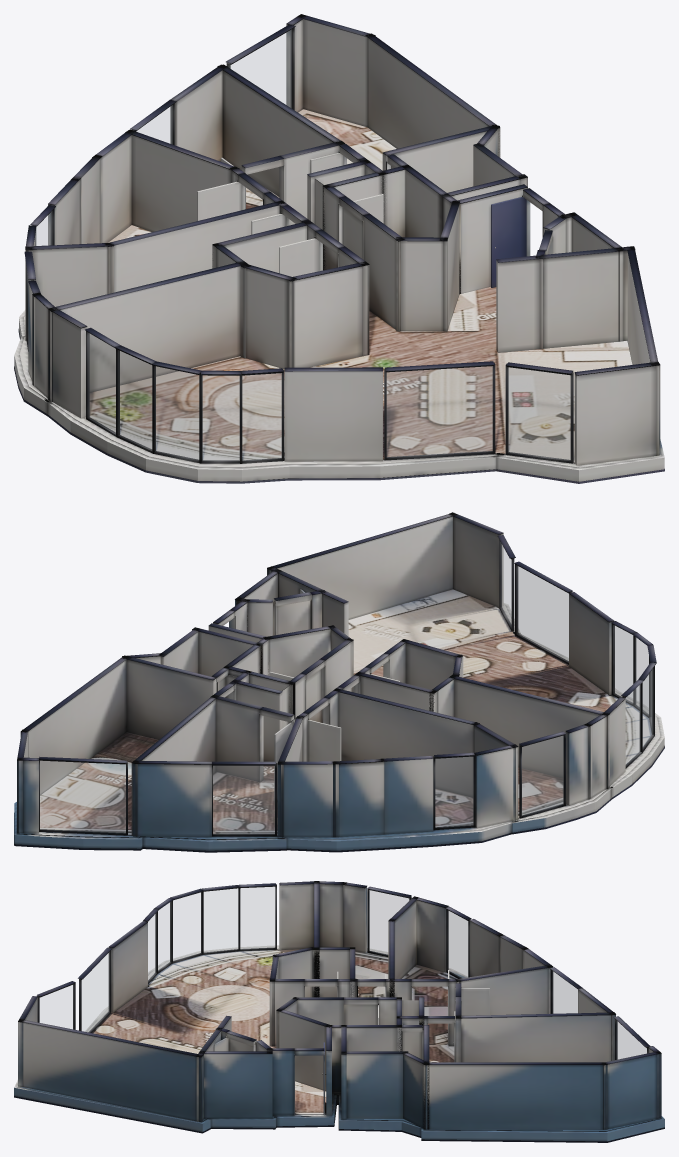
3 renders of one model, top to bottom at view 1: azimuth 30°, elevation 25°; view 2: azimuth 150°, elevation 25°; view 3: azimuth 270°, elevation 25°, orthographic. The views are drawn at different scales.
Parts seen in each view (by area): view 1: plan, glass9_m, glass10_m, glass6_m, glass8_m, glass7_m, glass5_m, glass1_m, glass4_m, glass0_m; view 2: plan, glass1_m, glass0_m, glass9_m, glass3_m, glass2_m, glass8_m, glass4_m, glass7_m, glass10_m, glass5_m; view 3: plan, glass5_m, glass4_m, glass6_m, glass9_m, glass3_m, glass2_m, glass10_m, glass0_m, glass7_m, glass1_m, glass8_m.
Part boxes in pixels (box(x1,y1,x2,y2)): plan: box(14, 14, 664, 483); glass9_m: box(387, 366, 492, 457); glass10_m: box(508, 367, 570, 460); glass6_m: box(155, 366, 198, 459); glass8_m: box(242, 373, 281, 460); glass7_m: box(202, 375, 239, 460); glass5_m: box(119, 351, 151, 449); glass1_m: box(231, 30, 291, 107); glass4_m: box(88, 333, 115, 433); glass0_m: box(136, 105, 172, 143); plan: box(14, 512, 664, 852); glass1_m: box(40, 761, 125, 833); glass0_m: box(213, 766, 274, 834); glass9_m: box(517, 566, 568, 661); glass3_m: box(522, 736, 563, 815); glass2_m: box(435, 757, 473, 827); glass8_m: box(614, 625, 632, 702); glass4_m: box(626, 685, 640, 764); glass7_m: box(635, 637, 648, 714); glass10_m: box(501, 543, 511, 625); glass5_m: box(643, 669, 652, 748); plan: box(14, 881, 664, 1142); glass5_m: box(204, 888, 238, 952); glass4_m: box(240, 887, 274, 949); glass6_m: box(173, 893, 201, 960); glass9_m: box(82, 952, 109, 1032); glass3_m: box(369, 890, 408, 954); glass2_m: box(448, 910, 467, 977); glass10_m: box(40, 985, 73, 1028); glass0_m: box(552, 971, 577, 1013); glass7_m: box(158, 902, 170, 970); glass1_m: box(617, 1021, 646, 1059); glass8_m: box(148, 914, 155, 980).
Bounding box in the file's own units: 14.09 × 2.62 × 20.55.
Materials: 2 (1 with a texture image).
